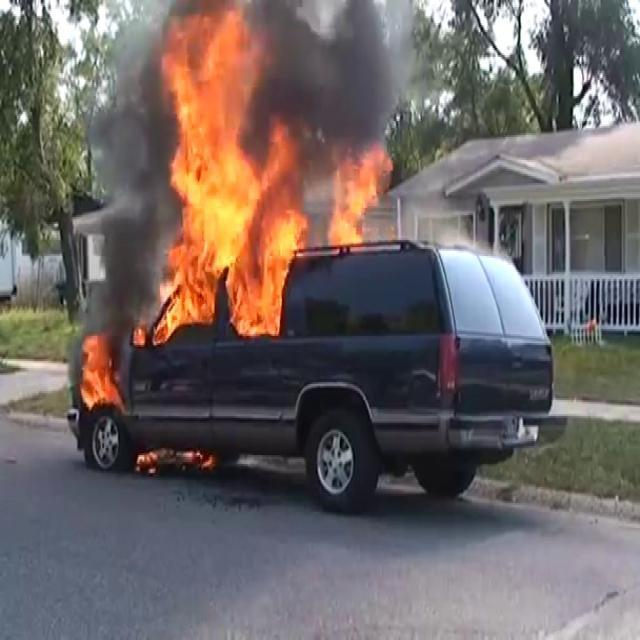Fire: (152, 0, 392, 345), (80, 333, 124, 412)
